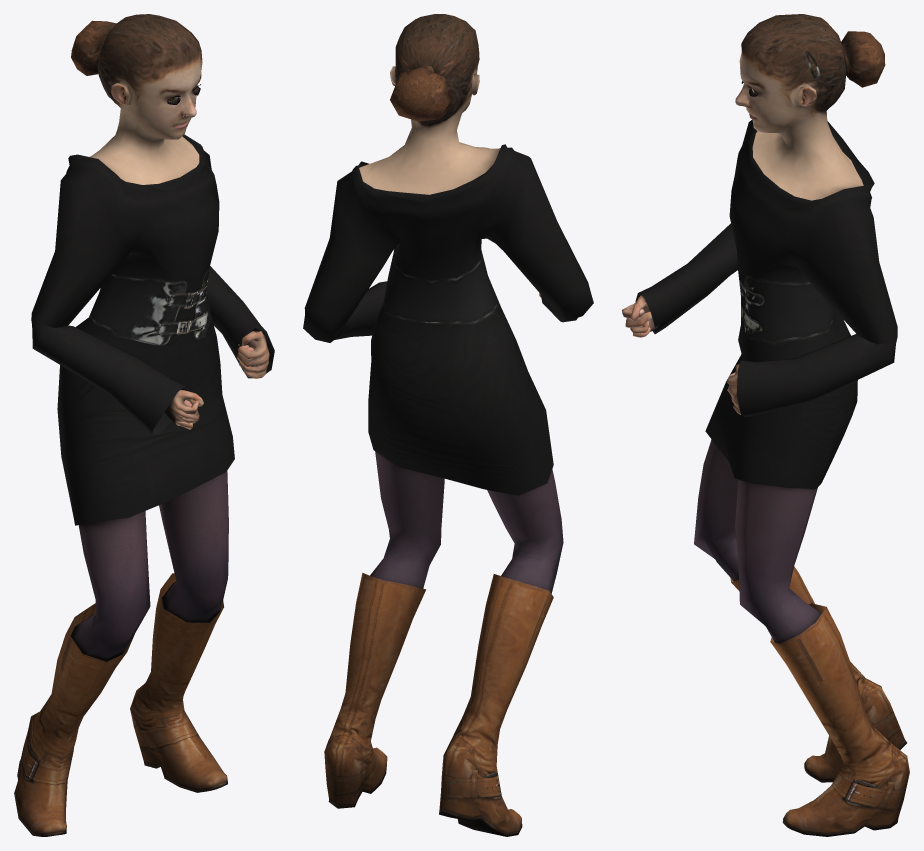
File: Ana_Model_000024.obj
3 views of the same model, side by side, from view 1: azimuth 30°, elevation 25°; view 2: azimuth 150°, elevation 25°; view 3: azimuth 270°, elevation 25° (orthographic). The views are drawn at different scales.
Parts seen in each view (by area): view 1: Ana_Cube.004; view 2: Ana_Cube.004; view 3: Ana_Cube.004.
Boxes of the visible parts, bbox=[...] form: Ana_Cube.004: bbox=[14, 14, 274, 836]; Ana_Cube.004: bbox=[303, 14, 593, 836]; Ana_Cube.004: bbox=[622, 14, 909, 836].
Bounding box in the file's own units: 0.6002 × 1.9 × 0.6217.
Materials: 1 (1 with a texture image).
